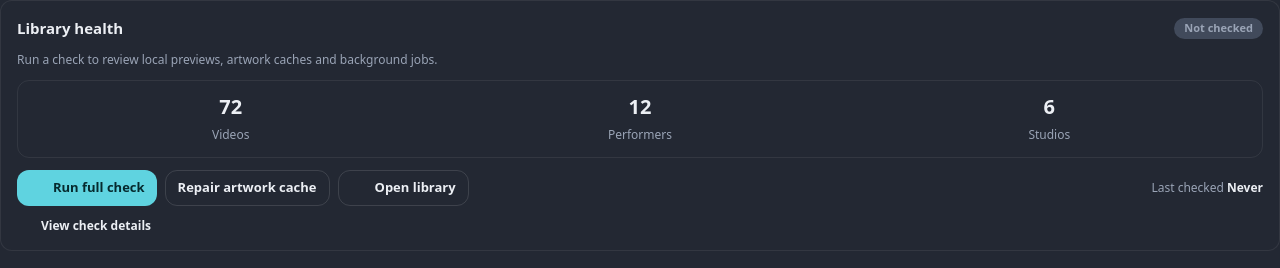
LibraryHealth › shows why a check failed
The width and height of the screenshot is (1280, 268).
Click the button "Run full check". click: [87, 188]
box: [17,170,157,206]
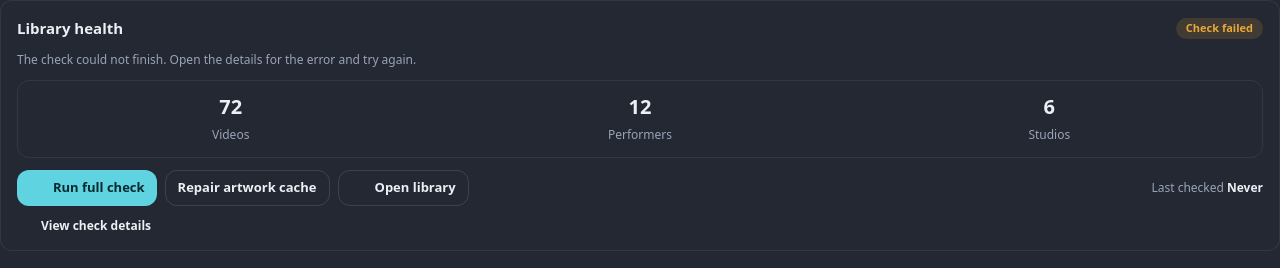
Expected: the text "Check failed" is shown, [1176,18,1263,38]
